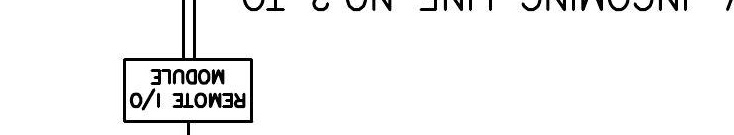remote_io_module: (123, 58, 254, 123)
